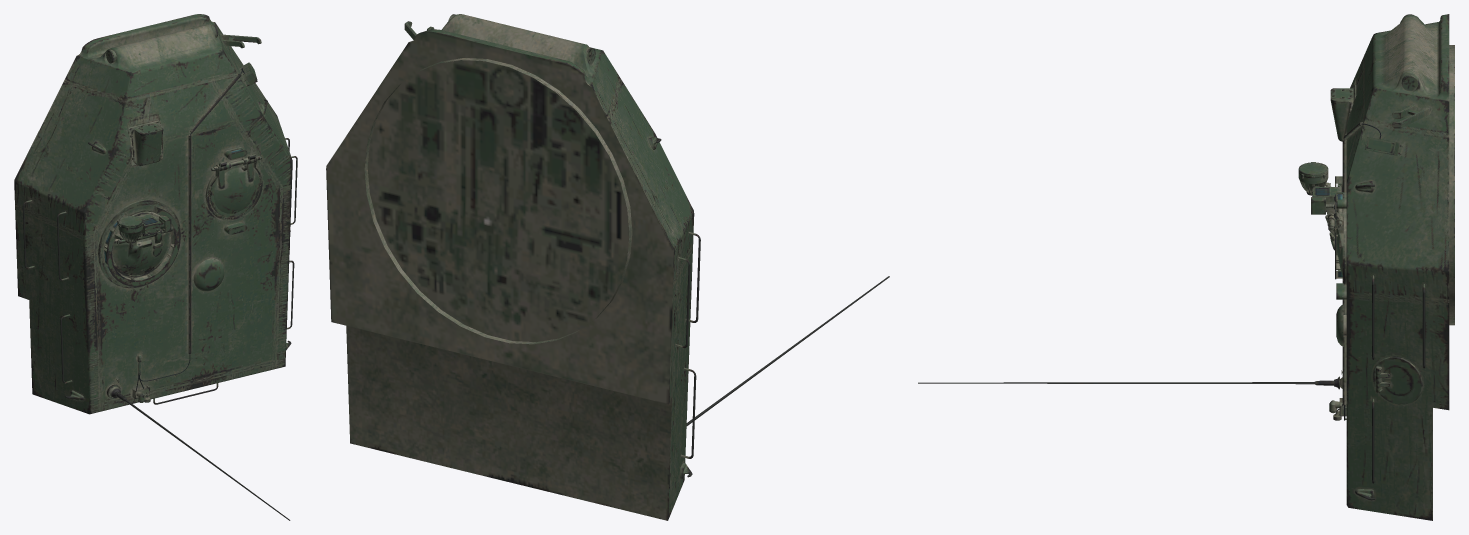
Rendered from Turret_01.glb.
3 renders of one model, left to right at view 1: azimuth 30°, elevation 25°; view 2: azimuth 150°, elevation 25°; view 3: azimuth 270°, elevation 25°, orthographic. The views are drawn at different scales.
Parts seen in each view (by area): view 1: set_0_group_0; view 2: set_0_group_0; view 3: set_0_group_0.
Boxes of the visible parts, x1=… form: set_0_group_0: x1=14, y1=14, x2=297, y2=520; set_0_group_0: x1=326, y1=14, x2=889, y2=520; set_0_group_0: x1=918, y1=14, x2=1454, y2=520.
Bounding box in the file's own units: 2.94 × 3.62 × 4.23.
Materials: 1 (1 with a texture image).
